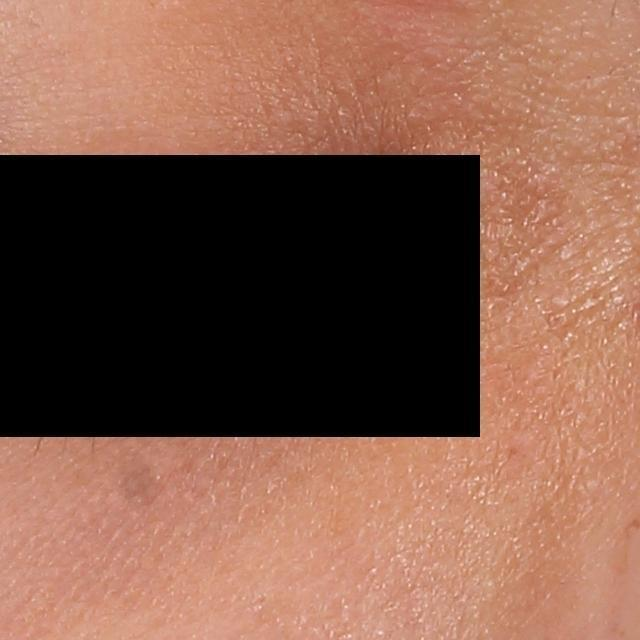other: (117, 453, 163, 512)
